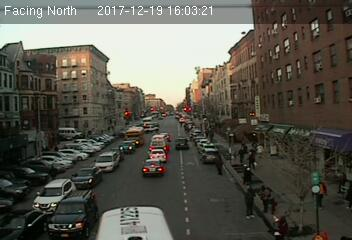car: (45, 189, 99, 238), (32, 178, 75, 212), (69, 166, 102, 187), (95, 152, 121, 171), (142, 158, 164, 177), (202, 147, 219, 163), (148, 148, 166, 162), (174, 137, 190, 150), (119, 141, 135, 153)
pedestrian: (246, 180, 256, 219)
truck: (126, 126, 145, 145)
